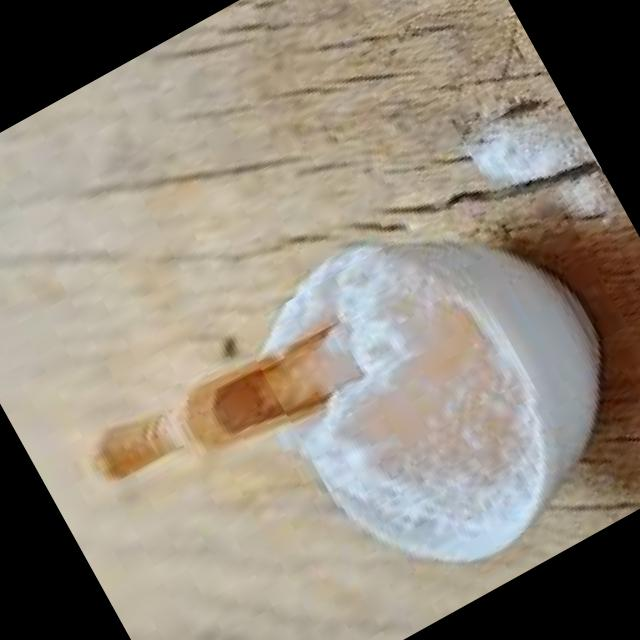Organic: (238, 216, 574, 568), (462, 85, 614, 242)
